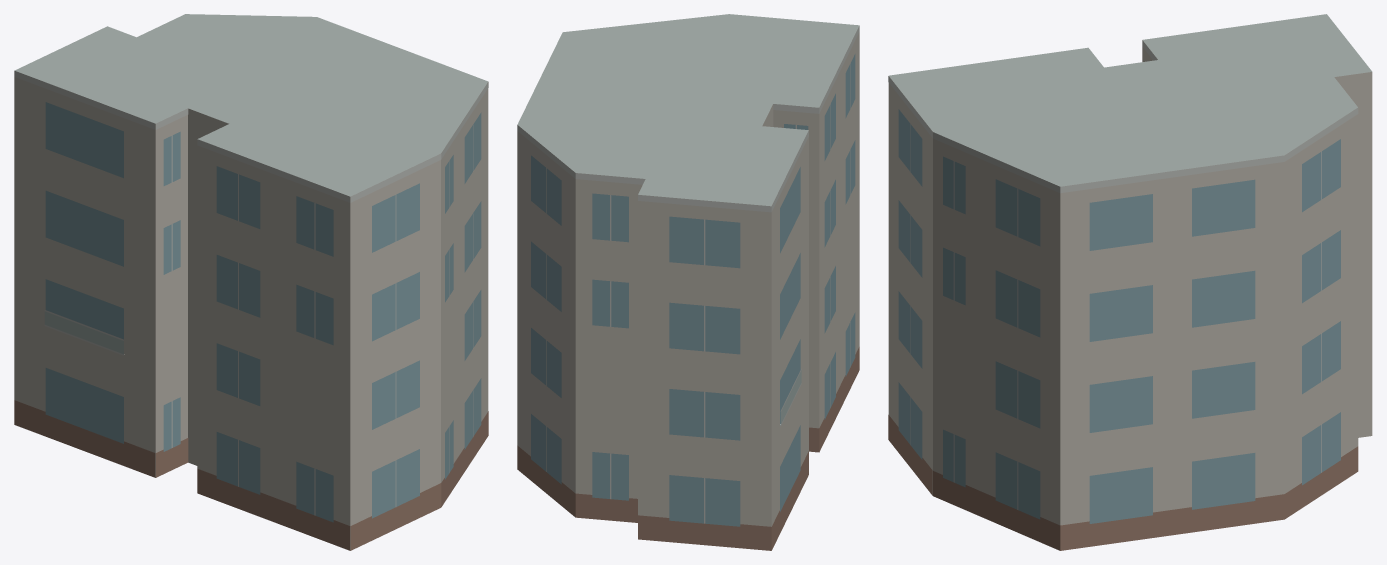
Rendered from survey-upis-32618459.glb.
The picture shows the model from 3 angles, left to right: view 1: azimuth 30°, elevation 25°; view 2: azimuth 150°, elevation 25°; view 3: azimuth 270°, elevation 25°; orthographic projection. The views are drawn at different scales.
Parts seen in each view (by area): view 1: survey-upis-32618459.tmp; view 2: survey-upis-32618459.tmp; view 3: survey-upis-32618459.tmp.
Part boxes in pixels (box(x1,y1,x2,y2)): survey-upis-32618459.tmp: box(14, 14, 488, 550); survey-upis-32618459.tmp: box(517, 14, 859, 550); survey-upis-32618459.tmp: box(888, 14, 1372, 550).
Bounding box in the file's own units: 13.95 × 13.7 × 16.52.
